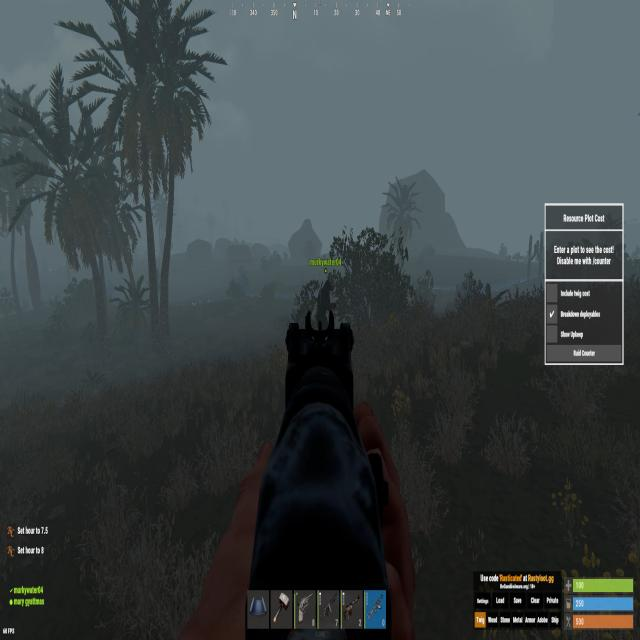Player: (316, 275, 336, 329)
